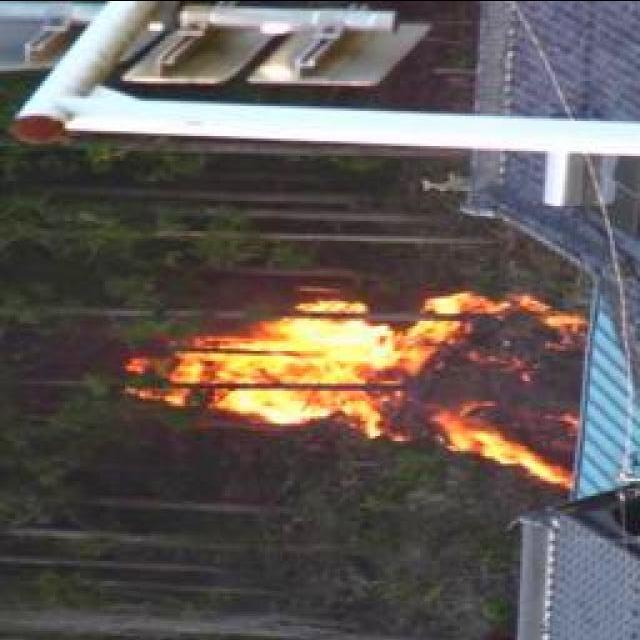Fire: (152, 293, 588, 480)
